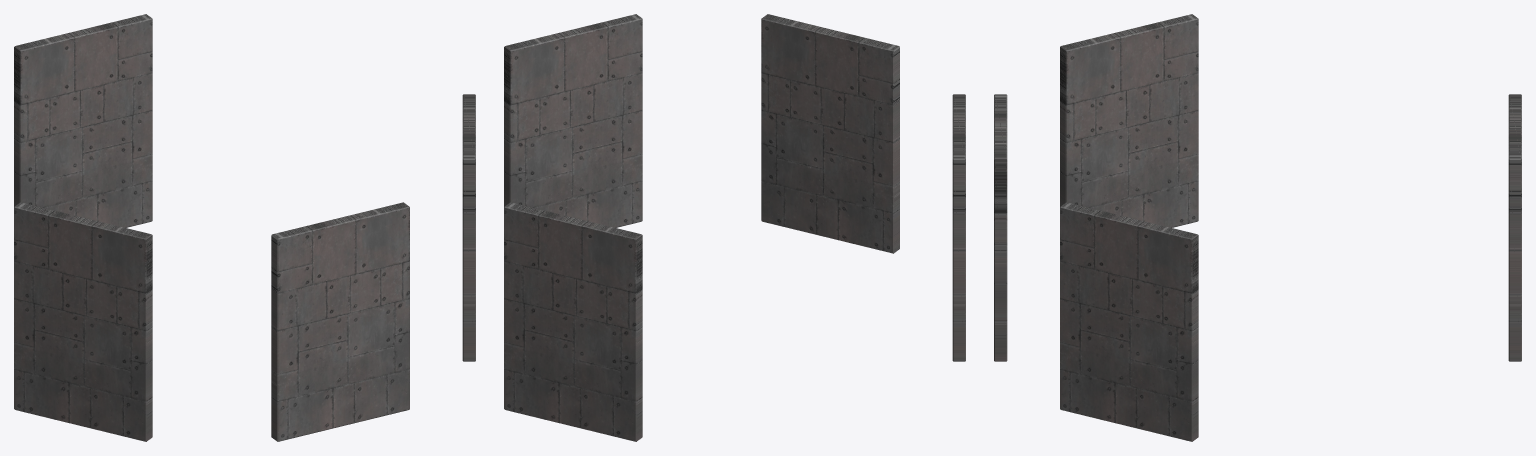
The model's file is SatelliteCorridor.fbx.
The picture shows the model from 3 angles, left to right: view 1: azimuth 30°, elevation 25°; view 2: azimuth 150°, elevation 25°; view 3: azimuth 270°, elevation 25°; orthographic projection.
Parts seen in each view (by area): view 1: DoorForward, DoorRight, DoorBack, DoorLeft; view 2: DoorForward, DoorBack, DoorLeft, DoorRight; view 3: DoorLeft, DoorRight, DoorForward, DoorBack.
Part boxes in pixels (box(x1,y1,x2,y2)): DoorForward: box(271, 202, 409, 441); DoorRight: box(14, 202, 152, 441); DoorBack: box(14, 14, 152, 227); DoorLeft: box(462, 94, 475, 361); DoorForward: box(761, 14, 899, 253); DoorBack: box(504, 202, 642, 441); DoorLeft: box(504, 14, 642, 227); DoorRight: box(952, 94, 965, 361); DoorLeft: box(1060, 202, 1198, 441); DoorRight: box(1060, 14, 1198, 227); DoorForward: box(994, 94, 1007, 361); DoorBack: box(1508, 94, 1521, 361).
Bounding box in the file's own units: 5.23 × 2.2 × 5.18.
